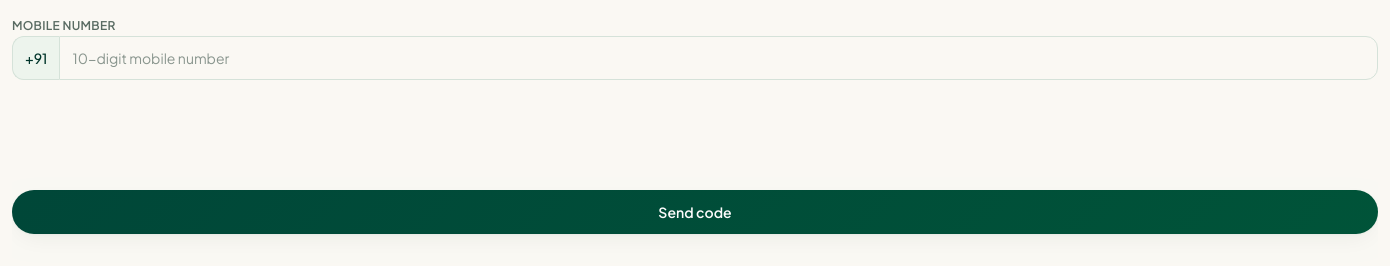
MobileOtpForm › number step › sends the code using MSG91's country-code format
Expected: the button "Send code" is enabled, [12,190,1378,234]
Type "98765 43210" into the field labelled "Mobile number" at (719, 58), box [60,36,1378,80]
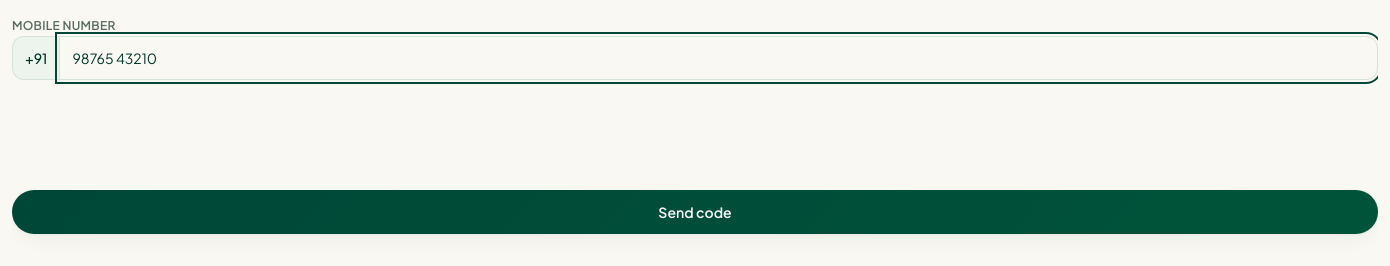
Click the button "Send code" at (695, 212), box [12,190,1378,234]
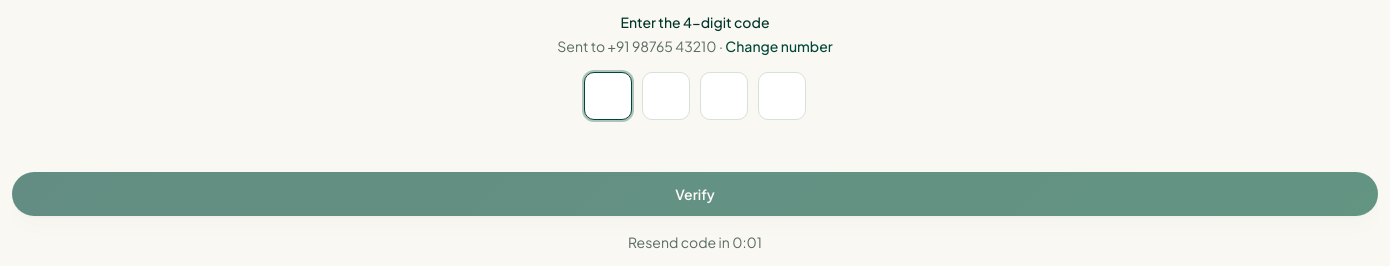
Result: the text "Enter the 4-digit code" is shown at [620,13,770,31]
Result: the text "Sent to +91 98765 43210 · Change number" is shown at [557,36,833,56]
